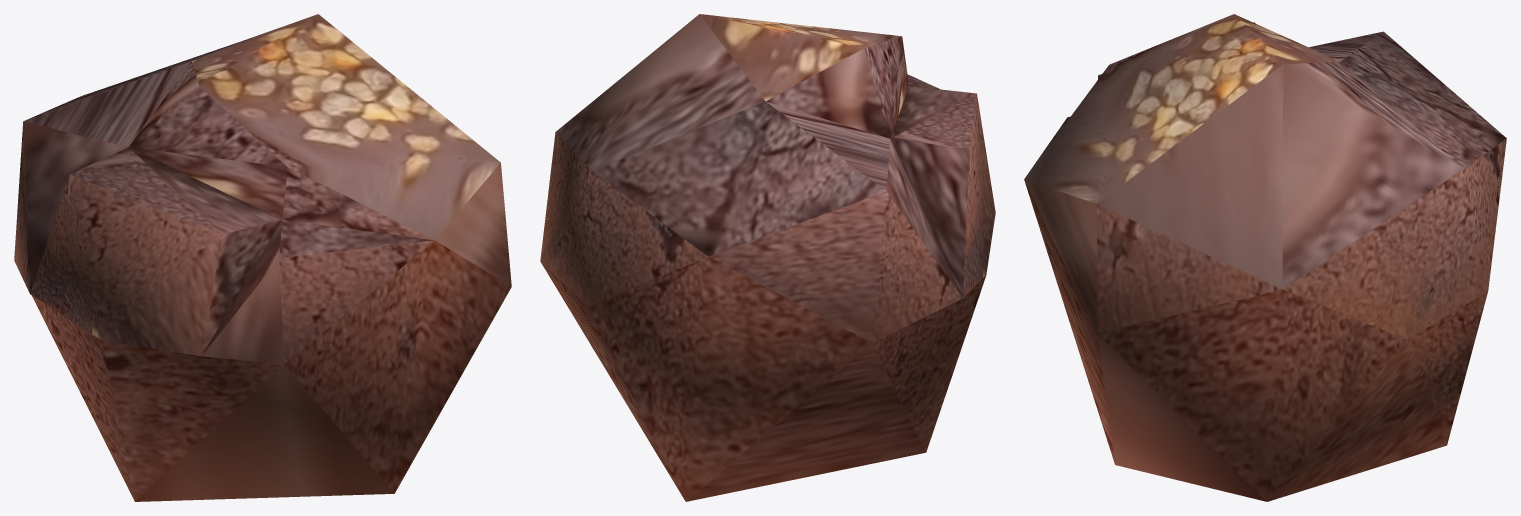
The model's file is muffin_50.obj.
3 views of the same model, side by side, from view 1: azimuth 30°, elevation 25°; view 2: azimuth 150°, elevation 25°; view 3: azimuth 270°, elevation 25° (orthographic). The views are drawn at different scales.
Size of the model in its own units: 14.07 by 13.31 by 14.05.
1 material, 1 textured.
